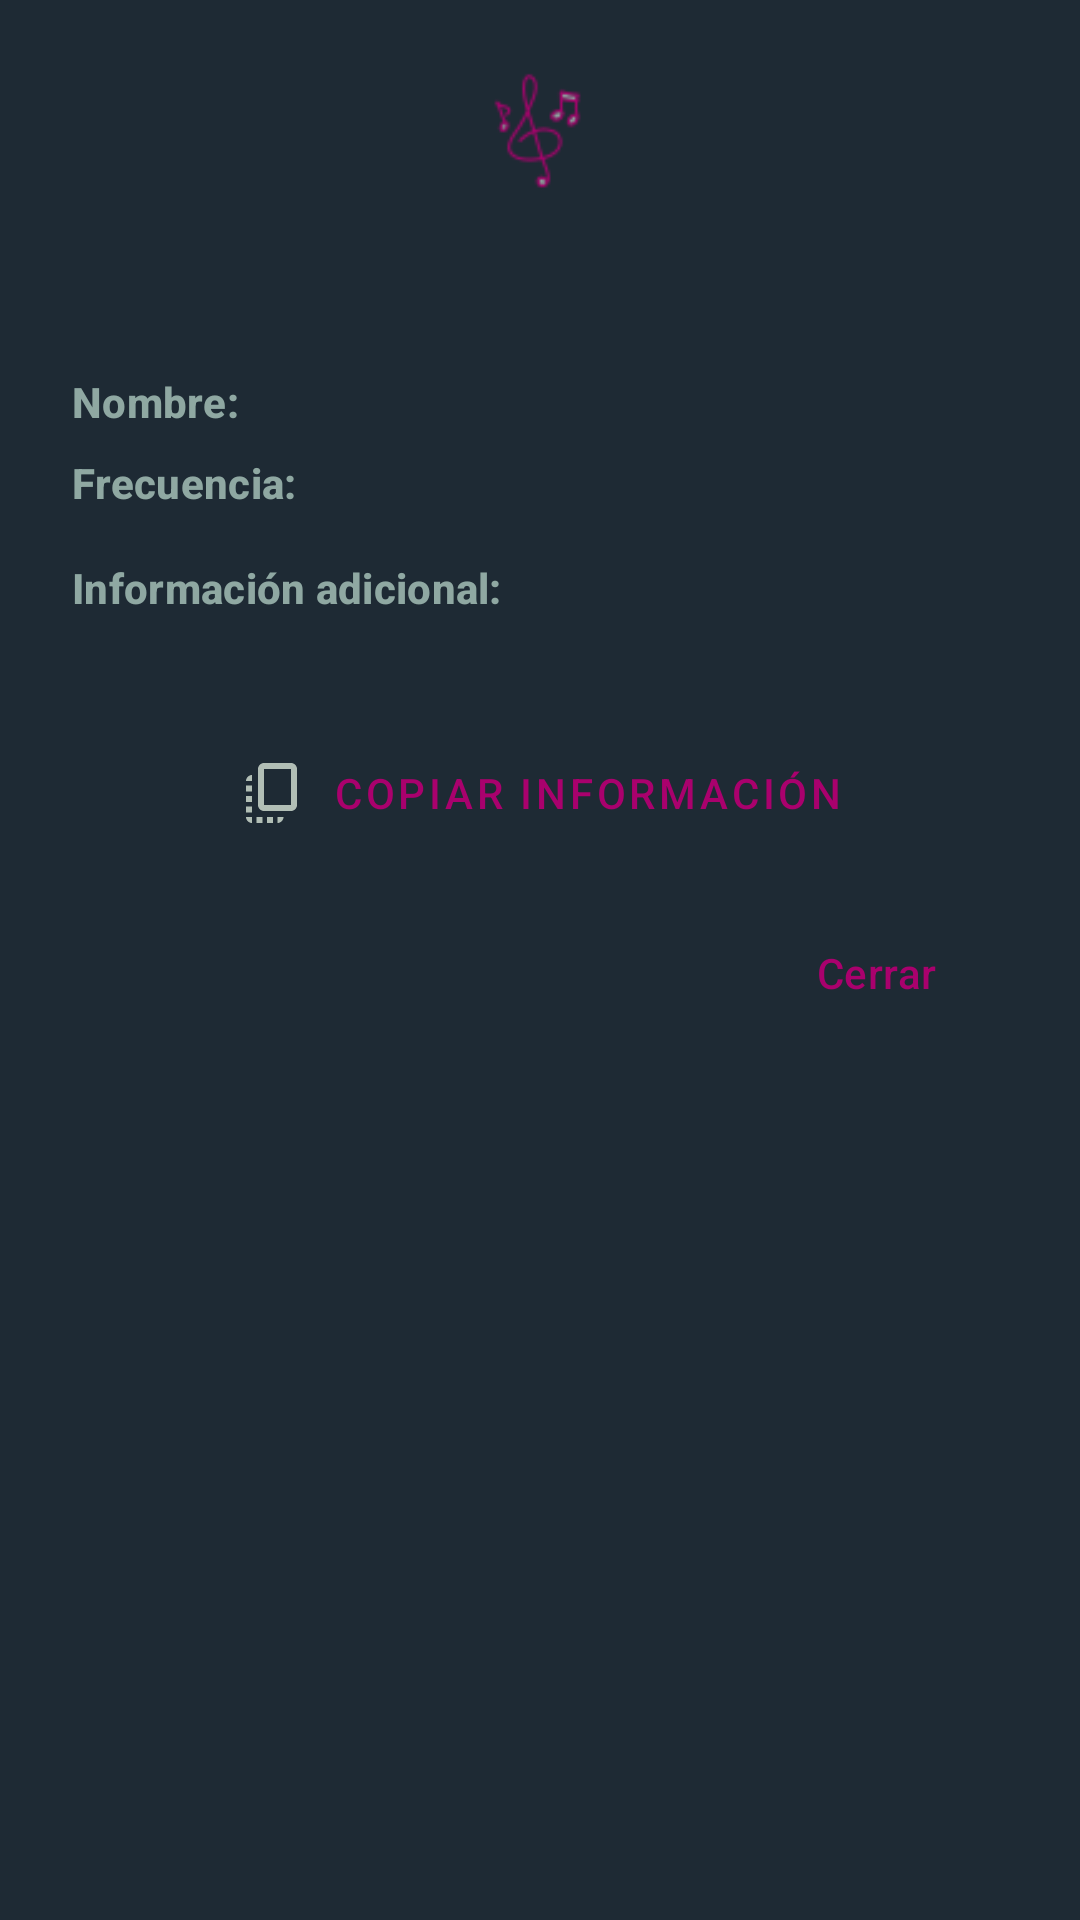

Locate icon controls on the screen. Image size 1080 x 1920, boxes as (x1, y1, x2, y2).
music notes: (495, 74, 580, 188)
